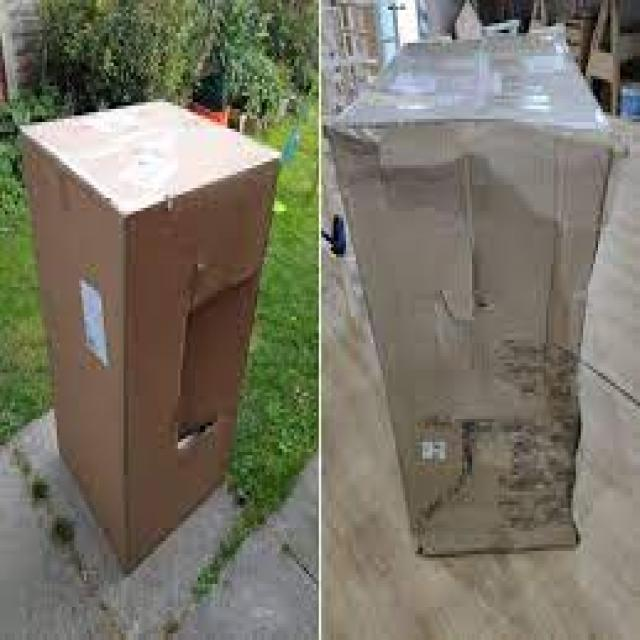Kardus kondisi rusak: (330, 29, 621, 554), (27, 99, 279, 571)
